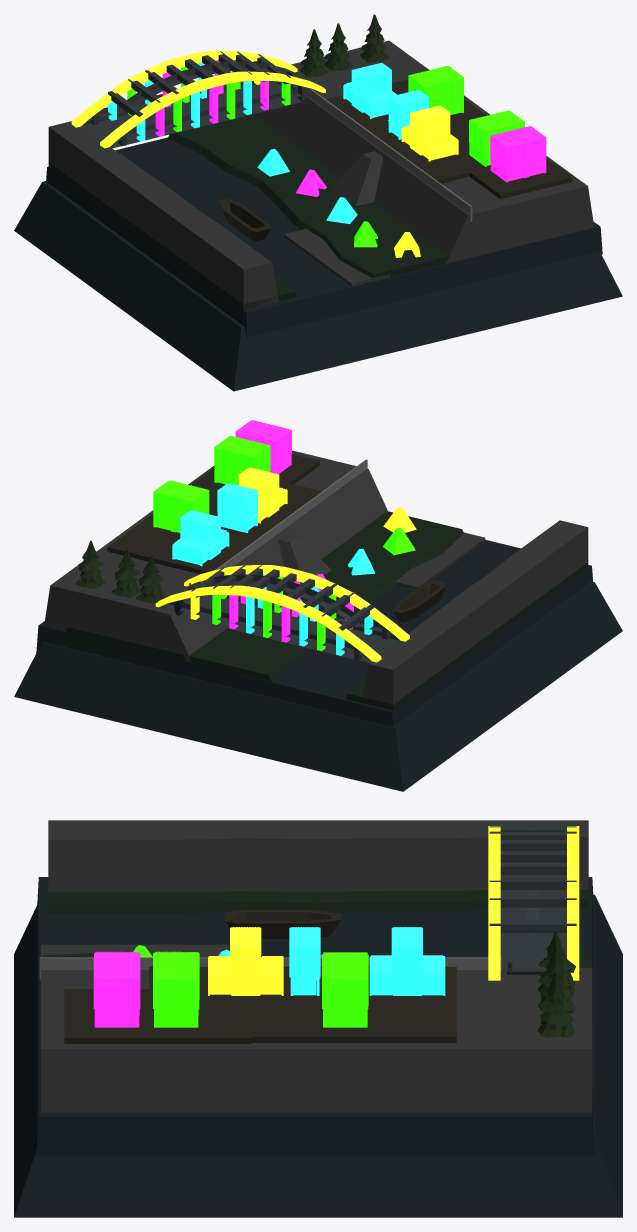
The model's file is main-night.glb.
3 renders of one model, top to bottom at view 1: azimuth 30°, elevation 25°; view 2: azimuth 150°, elevation 25°; view 3: azimuth 270°, elevation 25°, orthographic. The views are drawn at different scales.
Visible parts, largest first — view 1: かわまち3D_Town_盛岡_for_テクスチャ.457, かわまち3D_Town_盛岡_for_テクスチャ.458, かわまち3D_Town_盛岡_for_テクスチャ.002, かわまち3D_Town_盛岡_for_テクスチャ.014, かわまち3D_Town_盛岡_for_テクスチャ.004, かわまち3D_Town_盛岡_for_テクスチャ.006, かわまち3D_Town_盛岡_for_テクスチャ.271, かわまち3D_Town_盛岡_for_テクスチャ.022, かわまち3D_Town_盛岡_for_テクスチャ.020, かわまち3D_Town_盛岡_for_テクスチャ.059, かわまち3D_Town_盛岡_for_テクスチャ.322, かわまち3D_Town_盛岡_for_テクスチャ.045 (+16 smaller); view 2: かわまち3D_Town_盛岡_for_テクスチャ.457, かわまち3D_Town_盛岡_for_テクスチャ.002, かわまち3D_Town_盛岡_for_テクスチャ.458, かわまち3D_Town_盛岡_for_テクスチャ.014, かわまち3D_Town_盛岡_for_テクスチャ.004, かわまち3D_Town_盛岡_for_テクスチャ.006, かわまち3D_Town_盛岡_for_テクスチャ.022, かわまち3D_Town_盛岡_for_テクスチャ.045, かわまち3D_Town_盛岡_for_テクスチャ.322, かわまち3D_Town_盛岡_for_テクスチャ.367, かわまち3D_Town_盛岡_for_テクスチャ.007, かわまち3D_Town_盛岡_for_テクスチャ.020 (+15 smaller); view 3: かわまち3D_Town_盛岡_for_テクスチャ.457, かわまち3D_Town_盛岡_for_テクスチャ.002, かわまち3D_Town_盛岡_for_テクスチャ.458, かわまち3D_Town_盛岡_for_テクスチャ.014, かわまち3D_Town_盛岡_for_テクスチャ.006, かわまち3D_Town_盛岡_for_テクスチャ.003, かわまち3D_Town_盛岡_for_テクスチャ.005, かわまち3D_Town_盛岡_for_テクスチャ.322, かわまち3D_Town_盛岡_for_テクスチャ.059, かわまち3D_Town_盛岡_for_テクスチャ.271, かわまち3D_Town_盛岡_for_テクスチャ.007, かわまち3D_Town_盛岡_for_テクスチャ.367 (+18 smaller).
Part boxes in pixels (box(x1,y1,x2,y2)): かわまち3D_Town_盛岡_for_テクスチャ.457: box(14, 181, 622, 391); かわまち3D_Town_盛岡_for_テクスチャ.458: box(46, 137, 602, 337); かわまち3D_Town_盛岡_for_テクスチャ.002: box(254, 40, 594, 263); かわまち3D_Town_盛岡_for_テクスチャ.014: box(48, 121, 279, 309); かわまち3D_Town_盛岡_for_テクスチャ.004: box(168, 114, 448, 278); かわまち3D_Town_盛岡_for_テクスチャ.006: box(326, 79, 490, 183); かわまち3D_Town_盛岡_for_テクスチャ.271: box(490, 126, 546, 182); かわまち3D_Town_盛岡_for_テクスチャ.022: box(81, 81, 302, 148); かわまち3D_Town_盛岡_for_テクスチャ.020: box(100, 71, 325, 148); かわまち3D_Town_盛岡_for_テクスチャ.059: box(401, 105, 458, 161); かわまち3D_Town_盛岡_for_テクスチャ.322: box(343, 63, 396, 118); かわまち3D_Town_盛岡_for_テクスチャ.045: box(71, 50, 297, 127); かわまち3D_Town_盛岡_for_テクスチャ.457: box(14, 581, 622, 791); かわまち3D_Town_盛岡_for_テクスチャ.002: box(44, 450, 387, 662); かわまち3D_Town_盛岡_for_テクスチャ.458: box(36, 540, 592, 726); かわまち3D_Town_盛岡_for_テクスチャ.014: box(362, 520, 588, 704); かわまち3D_Town_盛岡_for_テクスチャ.004: box(66, 511, 463, 682); かわまち3D_Town_盛岡_for_テクスチャ.006: box(107, 482, 321, 574); かわまち3D_Town_盛岡_for_テクスチャ.022: box(178, 595, 399, 663); かわまち3D_Town_盛岡_for_テクスチャ.045: box(155, 585, 381, 662); かわまち3D_Town_盛岡_for_テクスチャ.322: box(172, 510, 229, 566); かわまち3D_Town_盛岡_for_テクスチャ.367: box(153, 480, 209, 532); かわまち3D_Town_盛岡_for_テクスチャ.007: box(214, 436, 270, 485); かわまち3D_Town_盛岡_for_テクスチャ.020: box(184, 565, 409, 641); かわまち3D_Town_盛岡_for_テクスチャ.457: box(14, 894, 622, 1217); かわまち3D_Town_盛岡_for_テクスチャ.002: box(41, 968, 592, 1112); かわまち3D_Town_盛岡_for_テクスチャ.458: box(36, 877, 594, 1155); かわまち3D_Town_盛岡_for_テクスチャ.014: box(48, 820, 588, 892); かわまち3D_Town_盛岡_for_テクスチャ.006: box(149, 966, 456, 1042); かわまち3D_Town_盛岡_for_テクスチャ.003: box(48, 889, 588, 913); かわまち3D_Town_盛岡_for_テクスチャ.005: box(64, 989, 251, 1043); かわまち3D_Town_盛岡_for_テクスチャ.322: box(369, 927, 445, 995); かわまち3D_Town_盛岡_for_テクスチャ.059: box(208, 927, 283, 995); かわまち3D_Town_盛岡_for_テクスチャ.271: box(93, 951, 140, 1027); かわまち3D_Town_盛岡_for_テクスチャ.007: box(153, 951, 199, 1027); かわまち3D_Town_盛岡_for_テクスチャ.367: box(322, 952, 368, 1027).
Size of the model in its own units: 6.64 by 2.47 by 6.49.
